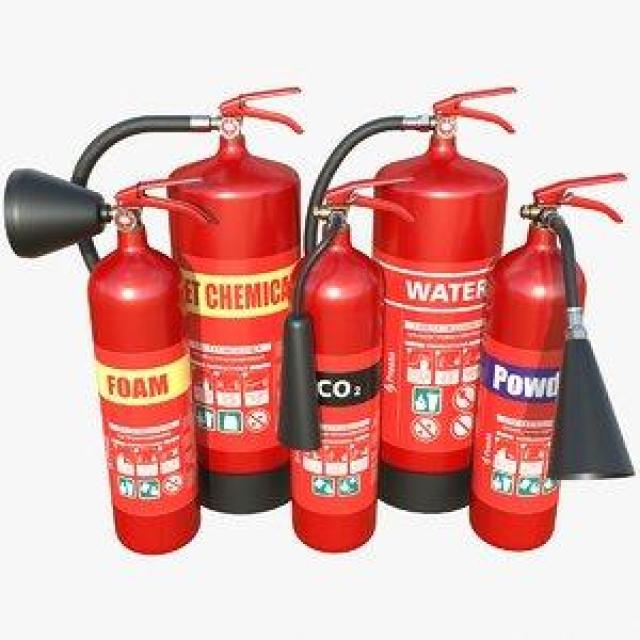fire_extinguisher: (57, 77, 306, 518), (287, 81, 519, 514), (0, 167, 218, 558), (464, 164, 635, 555), (272, 165, 417, 558)
